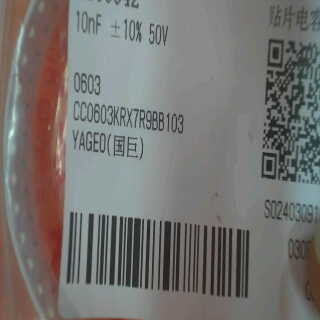10nF: (74, 9, 105, 43)
